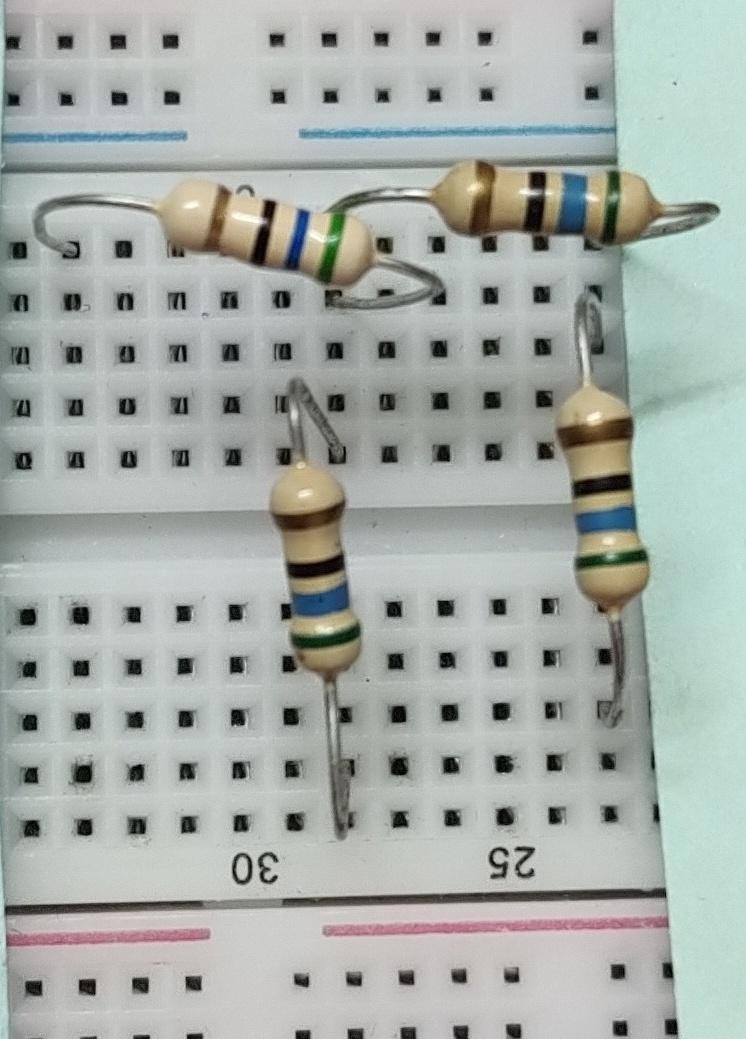resistor: (545, 375, 667, 612), (265, 453, 376, 691), (143, 177, 376, 285), (429, 153, 667, 252)
